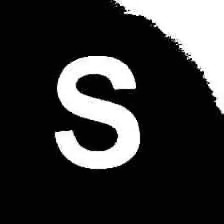LTR_S: (48, 52, 141, 171)
